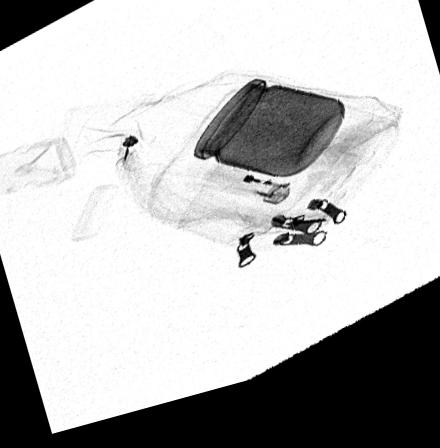Lighter: (203, 179, 292, 220)
